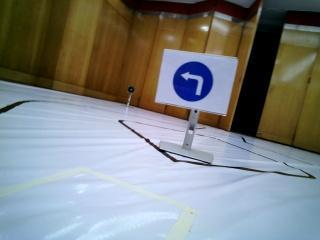left: (166, 48, 226, 111)
